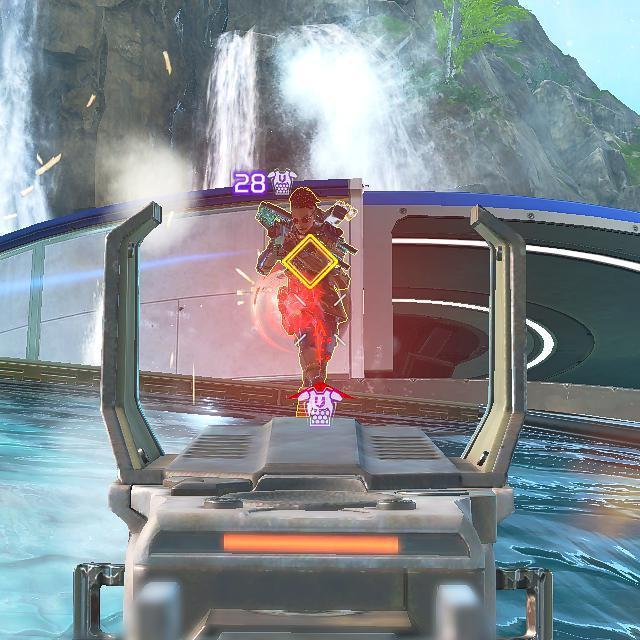avatar: (254, 185, 360, 384)
object: (283, 233, 340, 289)
